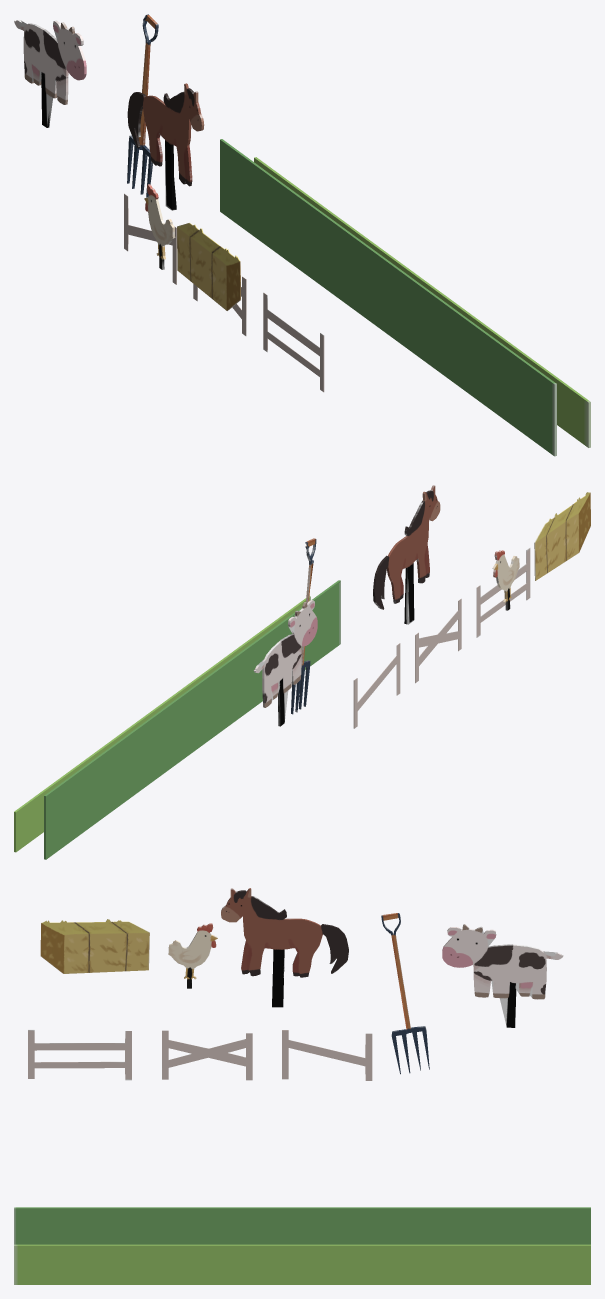
Rendered from level1battle 1.fbx.
3 views of the same model, one above another, from view 1: azimuth 30°, elevation 25°; view 2: azimuth 150°, elevation 25°; view 3: azimuth 270°, elevation 25° (orthographic). The views are drawn at different scales.
Visible parts, largest first — view 1: flat2, horse, cow, flat1, hay, tool, fence1, chicken, fence3; view 2: flat2, horse, cow, flat1, hay, fence2, fence1, tool, chicken, fence3; view 3: flat1, flat2, horse, cow, hay, fence1, fence2, tool, fence3, chicken.
Boxes of the visible parts, x1=… form: flat2: x1=220, y1=139, x2=556, y2=456; horse: x1=127, y1=83, x2=204, y2=210; cow: x1=14, y1=20, x2=86, y2=127; flat1: x1=254, y1=157, x2=590, y2=447; hay: x1=177, y1=222, x2=240, y2=310; tool: x1=127, y1=14, x2=158, y2=197; fence1: x1=263, y1=292, x2=324, y2=392; chicken: x1=144, y1=184, x2=175, y2=269; fence3: x1=124, y1=193, x2=176, y2=284; flat2: x1=44, y1=580, x2=340, y2=859; horse: x1=373, y1=485, x2=440, y2=624; cow: x1=253, y1=600, x2=317, y2=726; flat1: x1=14, y1=596, x2=310, y2=852; hay: x1=534, y1=492, x2=590, y2=580; fence2: x1=415, y1=598, x2=461, y2=683; fence1: x1=476, y1=548, x2=530, y2=637; tool: x1=291, y1=538, x2=316, y2=714; chicken: x1=492, y1=550, x2=519, y2=610; fence3: x1=353, y1=643, x2=400, y2=728; flat1: x1=14, y1=1244, x2=590, y2=1284; flat2: x1=14, y1=1207, x2=590, y2=1244; horse: x1=221, y1=888, x2=348, y2=1007; cow: x1=442, y1=924, x2=563, y2=1027; hay: x1=40, y1=919, x2=149, y2=973; fence1: x1=28, y1=1029, x2=131, y2=1080; fence2: x1=162, y1=1030, x2=252, y2=1080; tool: x1=381, y1=913, x2=429, y2=1074; fence3: x1=282, y1=1030, x2=372, y2=1080; chicken: x1=168, y1=923, x2=217, y2=988.
Size of the model in its own units: 289 by 271 by 499.
Materials: 3 (3 with a texture image).
